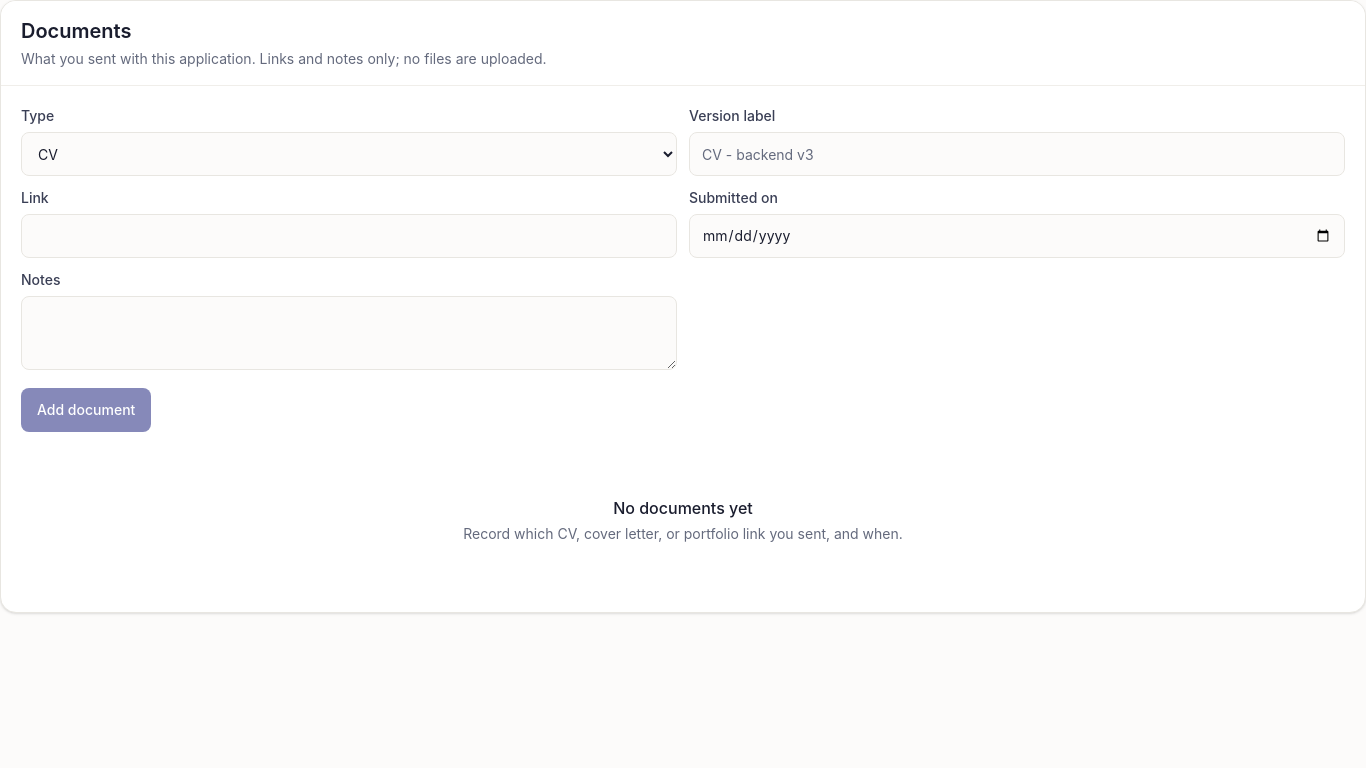
Test case: JobDetailDocumentsPanel › shows a failed save as an alert and keeps the typed values
Type "CV v3" into the field labelled "Version label" at (1017, 154), box [689,132,1345,176]
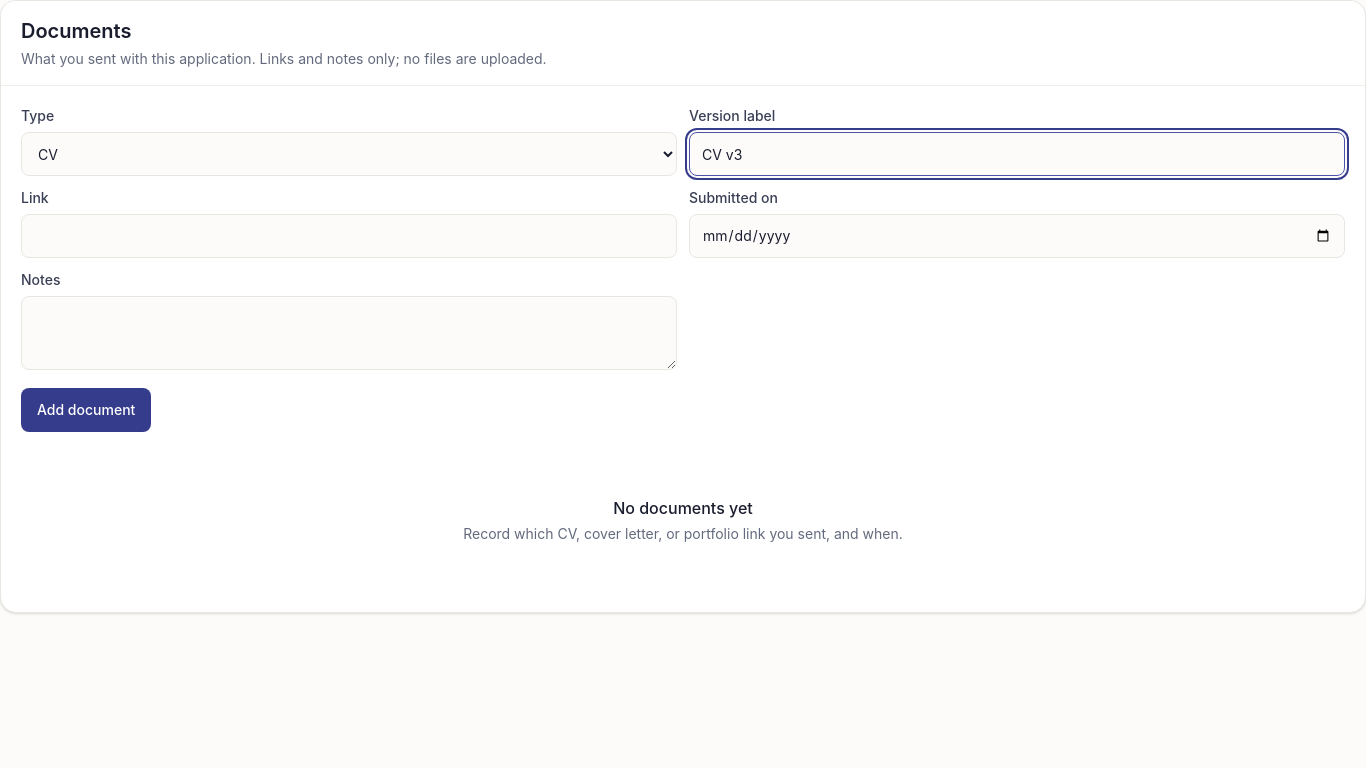
Click the button "Add document" at (86, 410), box [21,388,151,432]
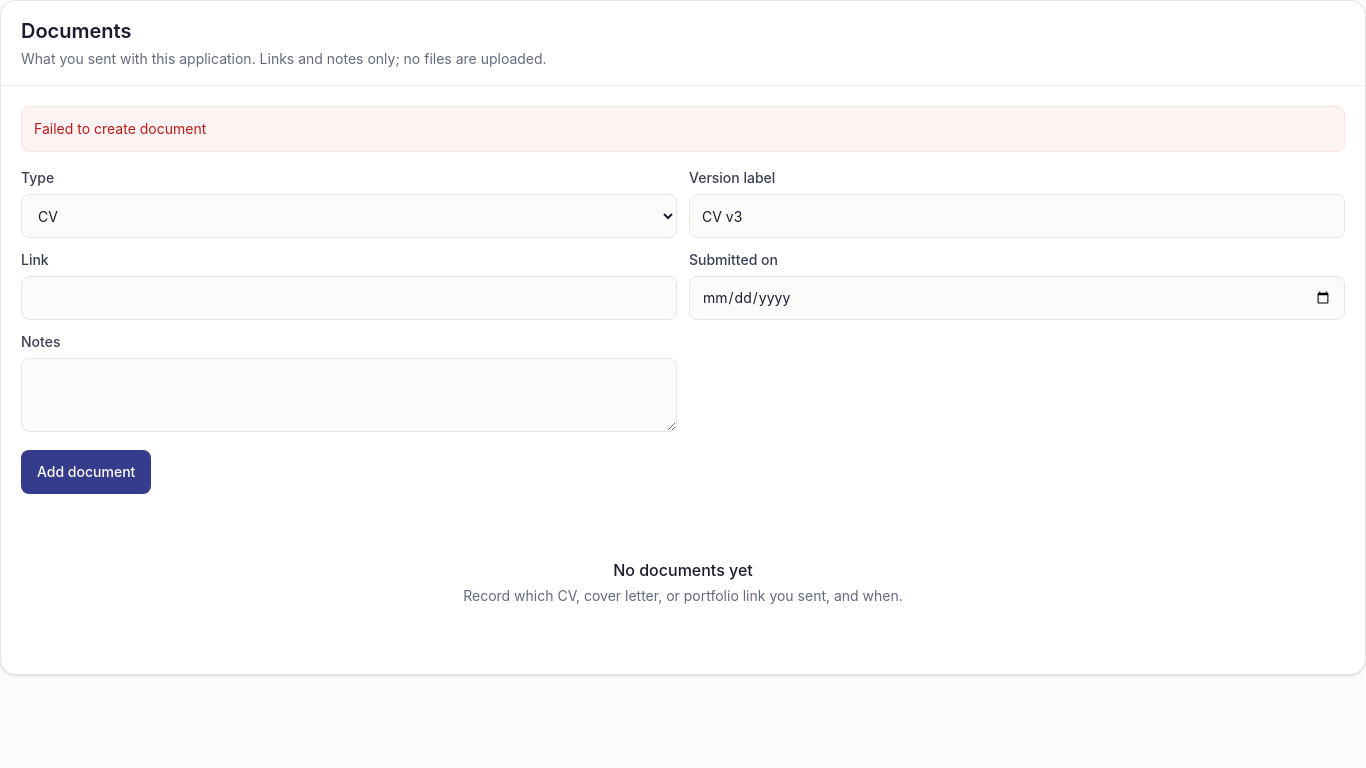
Expected: the message reads "Failed to create document", [34,120,206,137]
